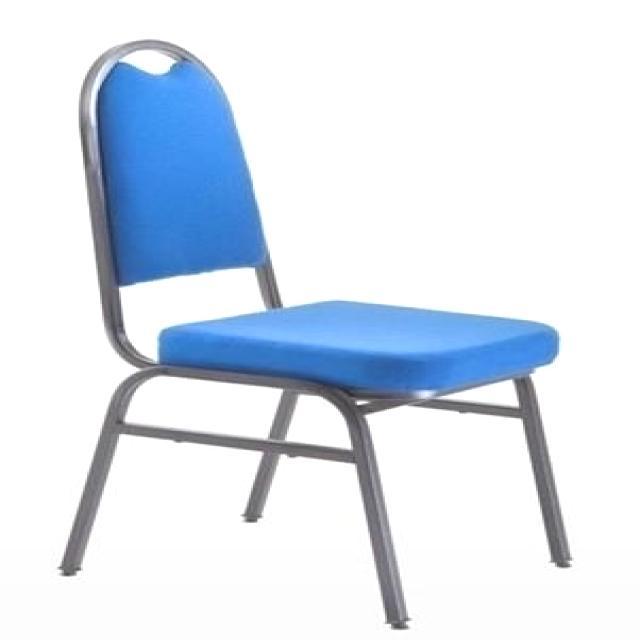Chair: (59, 38, 578, 634)
